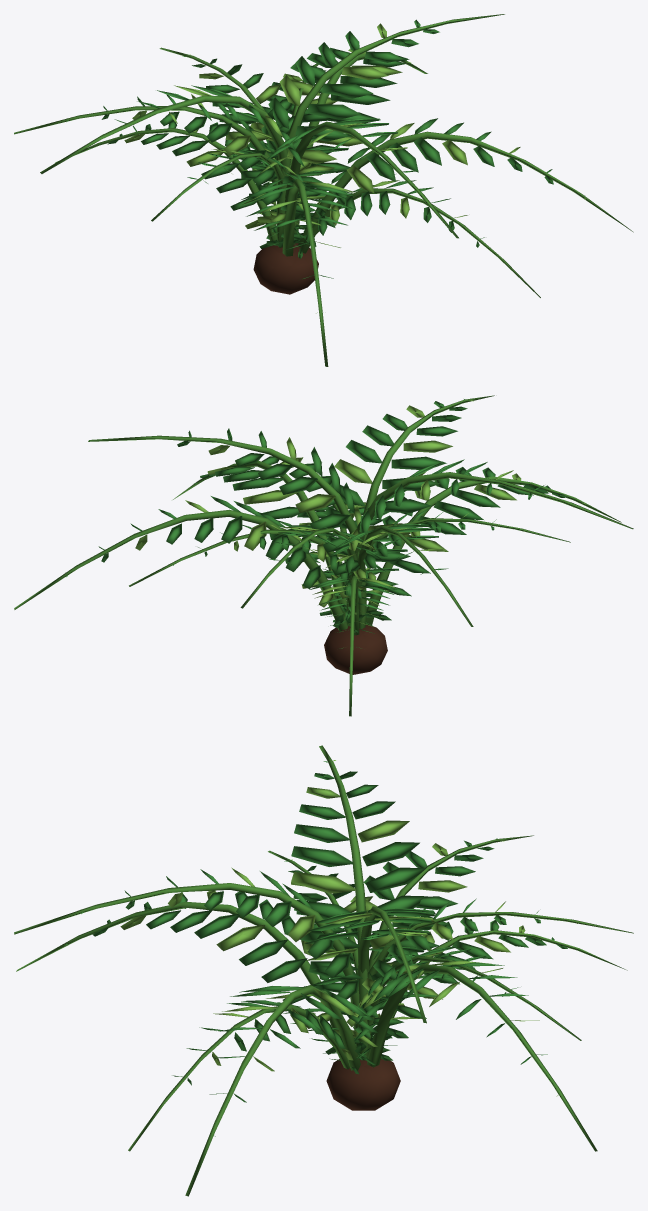
The model's file is canopy_fern_clump_lod1.glb.
3 views of the same model, one above another, from view 1: azimuth 30°, elevation 25°; view 2: azimuth 150°, elevation 25°; view 3: azimuth 270°, elevation 25° (orthographic). The views are drawn at different scales.
Visible parts, largest first — view 1: canopy_fern_clump.001; view 2: canopy_fern_clump.001; view 3: canopy_fern_clump.001.
Boxes of the visible parts, <box> form: canopy_fern_clump.001: <box>14,14,633,366</box>; canopy_fern_clump.001: <box>14,395,633,716</box>; canopy_fern_clump.001: <box>14,745,633,1196</box>.
Size of the model in its own units: 22.51 by 8.96 by 20.37.
